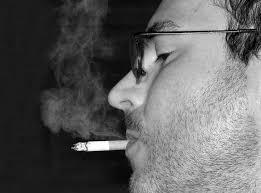smoke: (72, 139, 137, 152)
